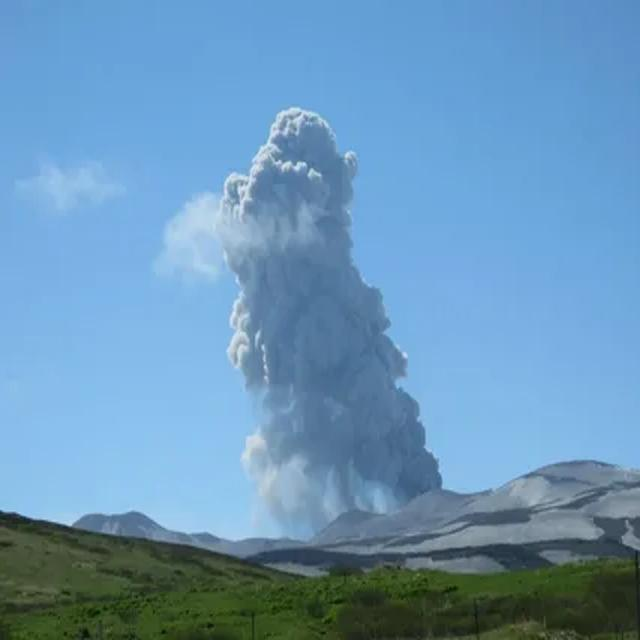Smoke: (216, 108, 444, 518)
